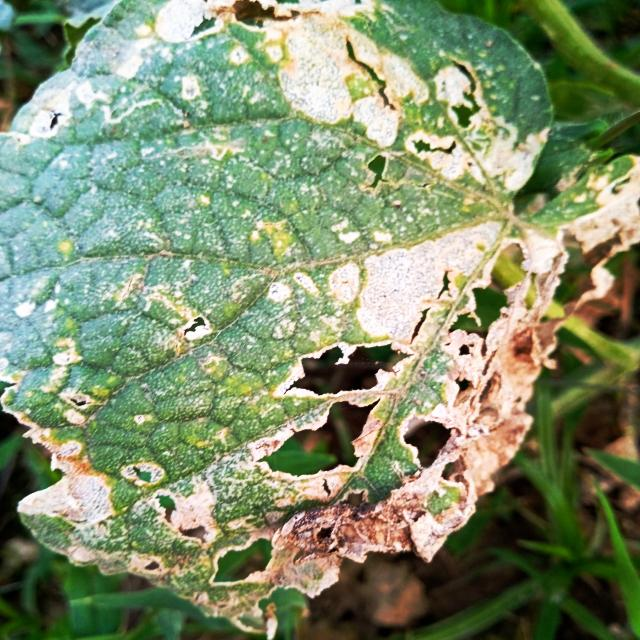Anthracnose: (254, 339, 422, 501), (440, 232, 536, 409), (399, 402, 476, 504), (131, 464, 210, 546), (209, 521, 275, 588), (452, 57, 481, 130), (364, 145, 392, 191), (182, 312, 218, 343)
